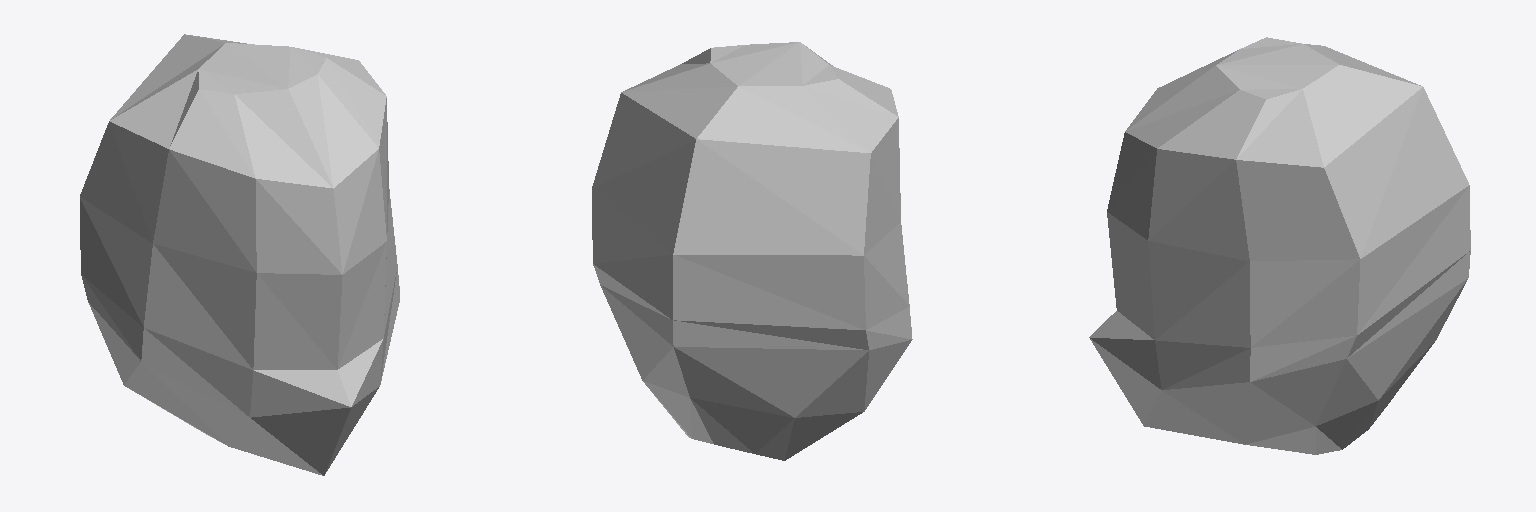
The model's file is Nomolun Head.obj.
3 renders of one model, left to right at view 1: azimuth 30°, elevation 25°; view 2: azimuth 150°, elevation 25°; view 3: azimuth 270°, elevation 25°, orthographic.
Visible parts, largest first — view 1: characters-Female_1_Idlandgames.png.002; view 2: characters-Female_1_Idlandgames.png.002; view 3: characters-Female_1_Idlandgames.png.002.
Boxes of the visible parts, <box> form: characters-Female_1_Idlandgames.png.002: <box>80,34,399,475</box>; characters-Female_1_Idlandgames.png.002: <box>592,42,912,460</box>; characters-Female_1_Idlandgames.png.002: <box>1089,37,1470,454</box>.
Bounding box in the file's own units: 0.4081 × 0.5465 × 0.494.